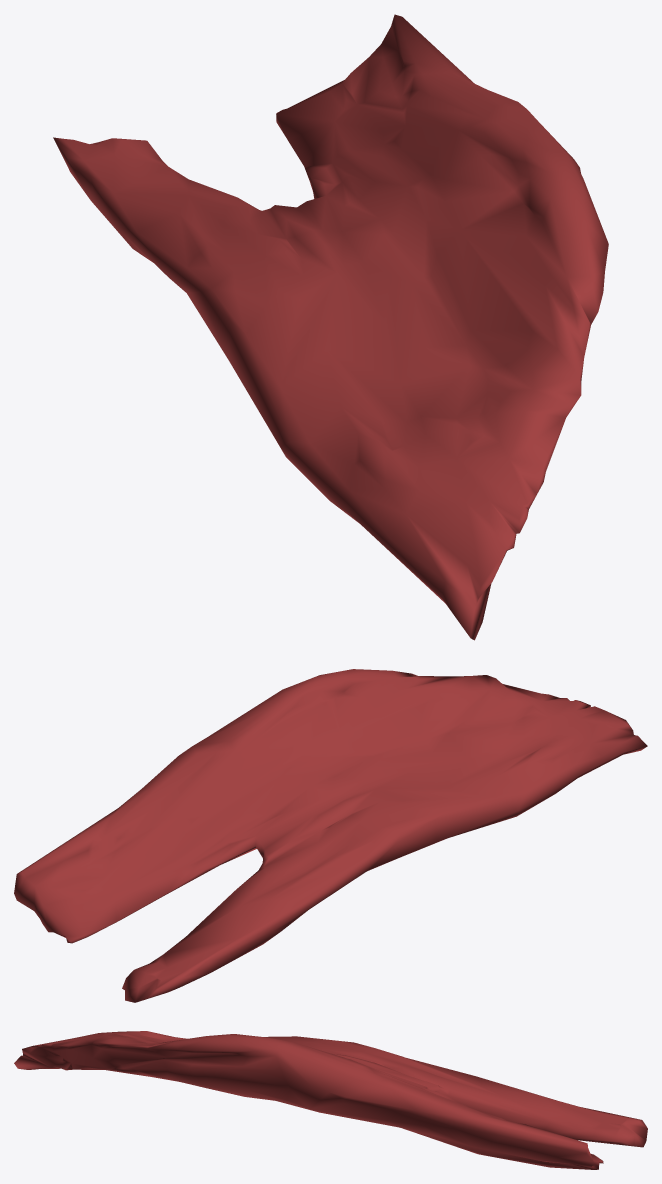
File: quadratus-plantae-muscle-r.glb
The picture shows the model from 3 angles, top to bottom: view 1: azimuth 30°, elevation 25°; view 2: azimuth 150°, elevation 25°; view 3: azimuth 270°, elevation 25°; orthographic projection. The views are drawn at different scales.
Visible parts, largest first — view 1: Quadratus plantae muscle.r; view 2: Quadratus plantae muscle.r; view 3: Quadratus plantae muscle.r.
Part boxes in pixels (x1=…): Quadratus plantae muscle.r: x1=53, y1=14, x2=608, y2=640; Quadratus plantae muscle.r: x1=14, y1=669, x2=647, y2=1002; Quadratus plantae muscle.r: x1=14, y1=1031, x2=647, y2=1169.
Bounding box in the file's own units: 0.0356 × 0.017 × 0.0768.
